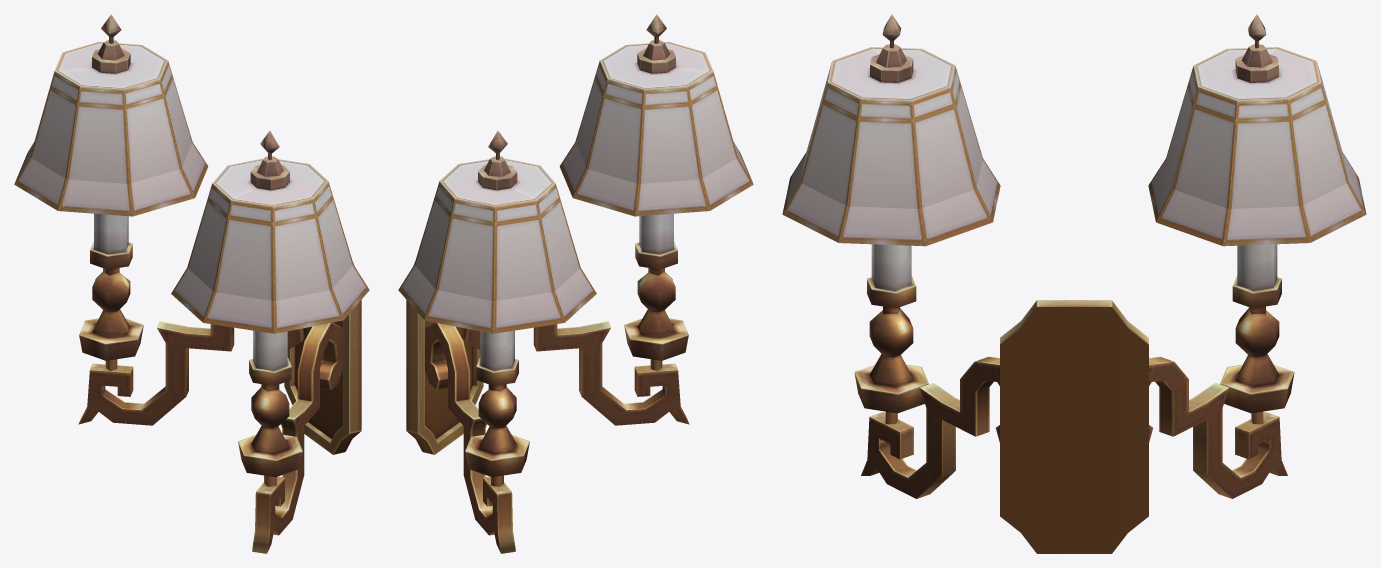
Rendered from my_gehennaparty_01_wallacc_02.glb.
3 views of the same model, side by side, from view 1: azimuth 30°, elevation 25°; view 2: azimuth 150°, elevation 25°; view 3: azimuth 270°, elevation 25° (orthographic). The views are drawn at different scales.
Visible parts, largest first — view 1: my_gehennaparty_01_wallacc_02; view 2: my_gehennaparty_01_wallacc_02; view 3: my_gehennaparty_01_wallacc_02.
Boxes of the visible parts, x1=… form: my_gehennaparty_01_wallacc_02: x1=14, y1=14, x2=369, y2=553; my_gehennaparty_01_wallacc_02: x1=398, y1=14, x2=753, y2=553; my_gehennaparty_01_wallacc_02: x1=782, y1=14, x2=1366, y2=553.
Size of the model in its own units: 0.00295 by 0.00523 by 0.00588.
Materials: 1 (1 with a texture image).
